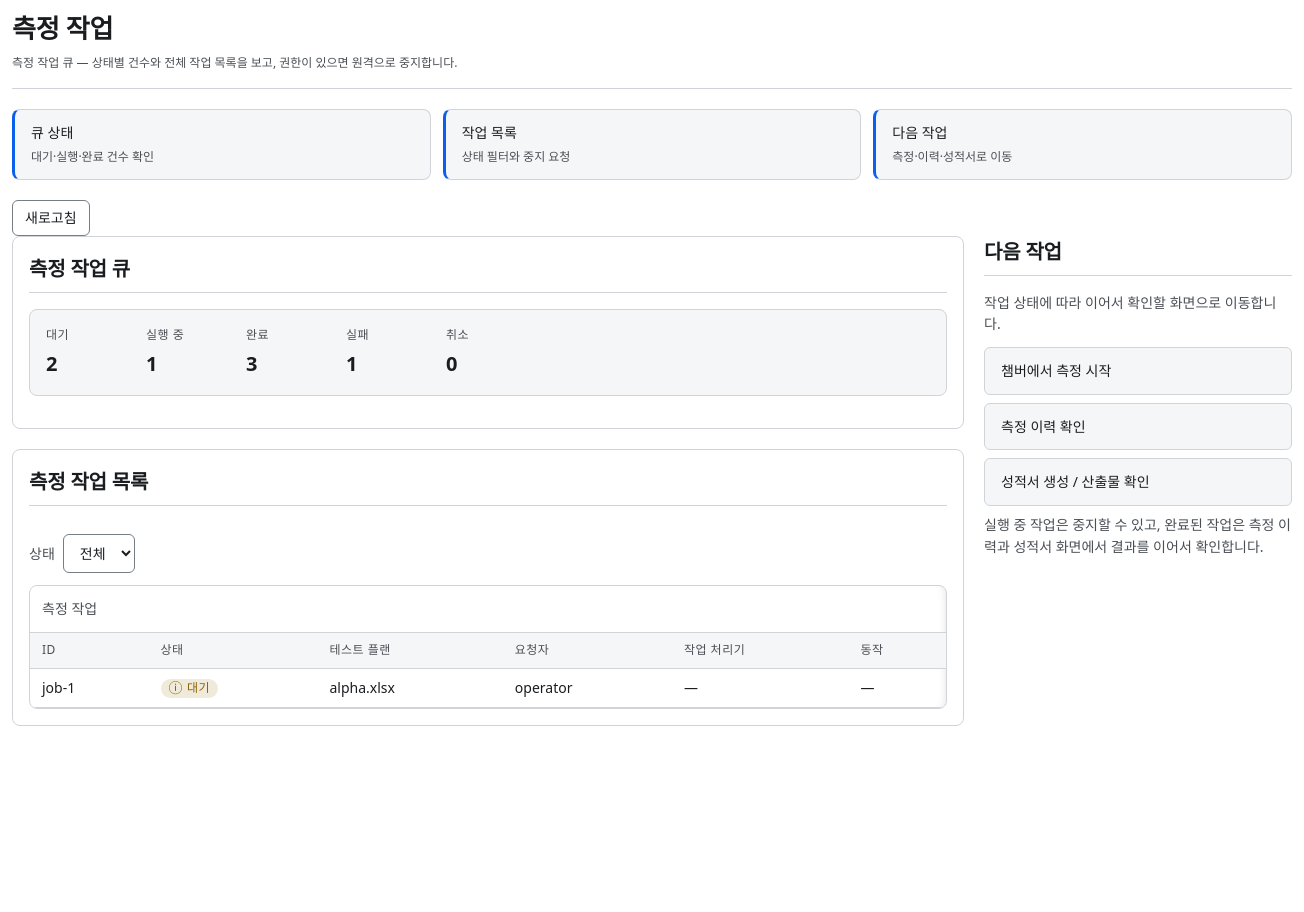
Test case: JobsRoute › announces the in-flight re-read through the existing refreshing idiom
Check: the number of rows with test id "job-row" is 1, box [30,669,946,708]
Click the button with test id "jobs-refresh" at (51,218), box [12,200,90,236]
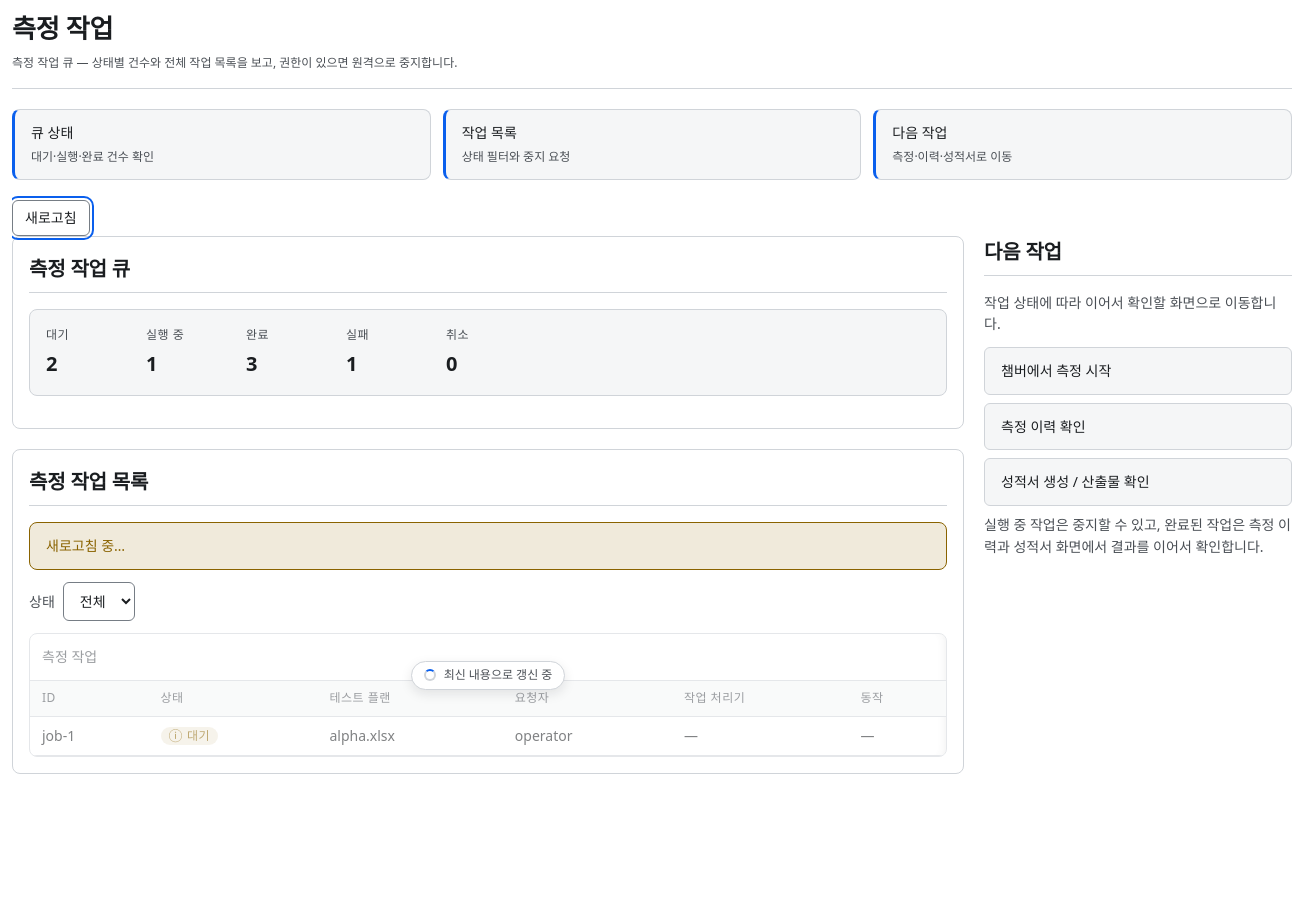
Check: the number of rows with test id "job-row" is 1, box [30,717,946,755]
Check: the message "새로고침 중…" is shown, box [29,522,947,570]
